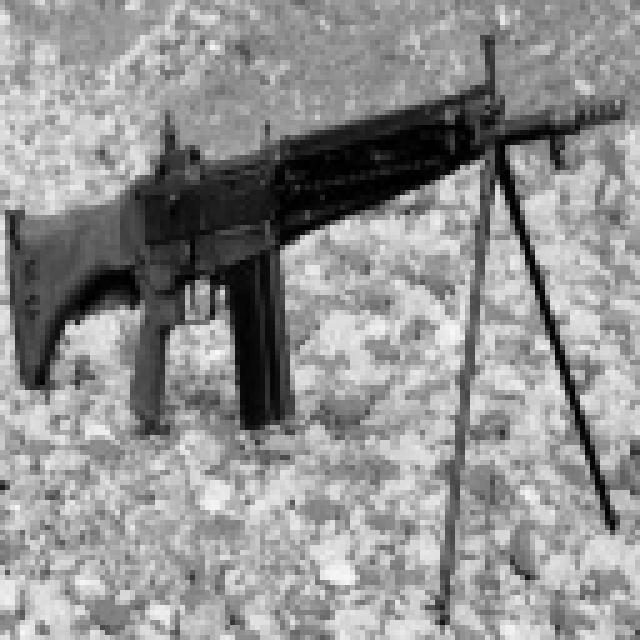Rifle: (0, 5, 585, 615)
